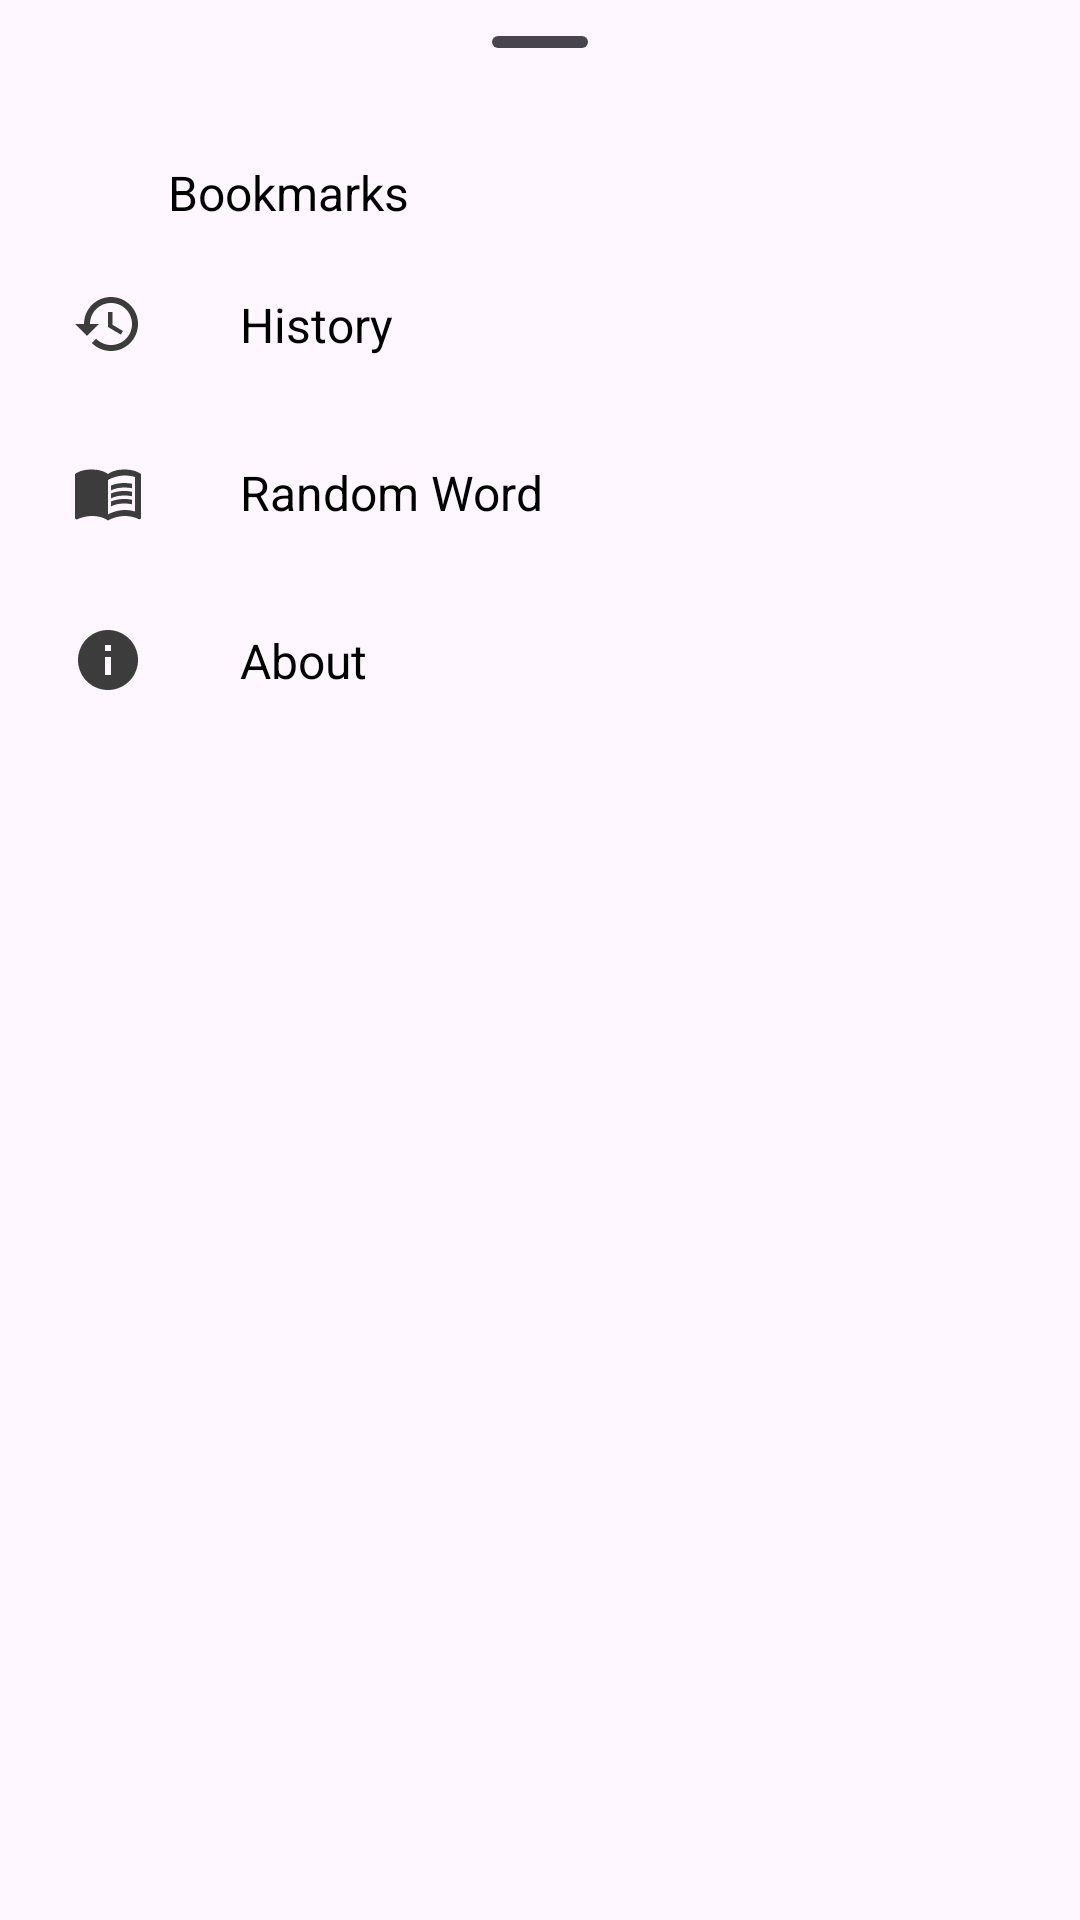

Named icons in this screenshot (1080*1920) and their centers, [x,y]:
book: [108,495]
info: [108,660]
